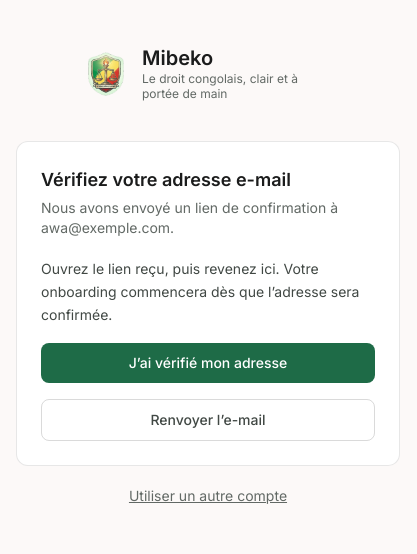
Test: VerifyEmailPage › reste sur place quand la confirmation n’est pas encore effective
Click the button "J’ai vérifié mon adresse": click(208, 363) [41,343,375,383]
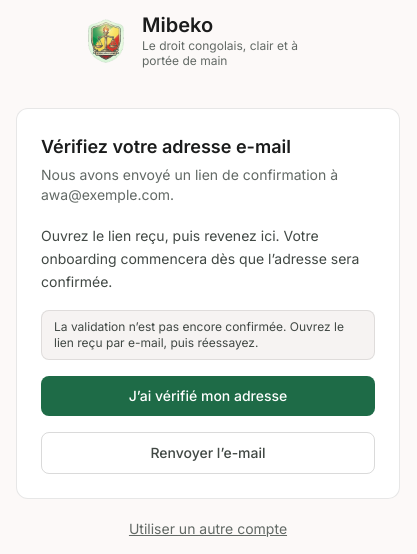
Expected: the message shows "pas encore confirmée", [54,319,344,350]
